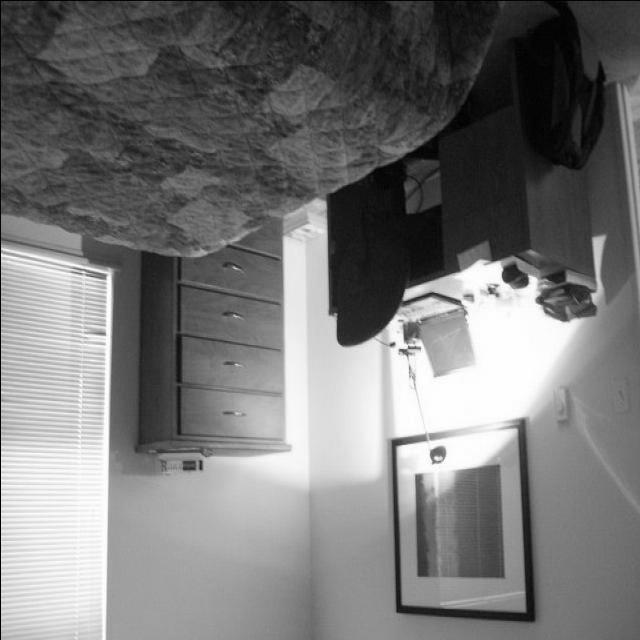chair: (332, 105, 441, 355)
table: (310, 46, 612, 367)
